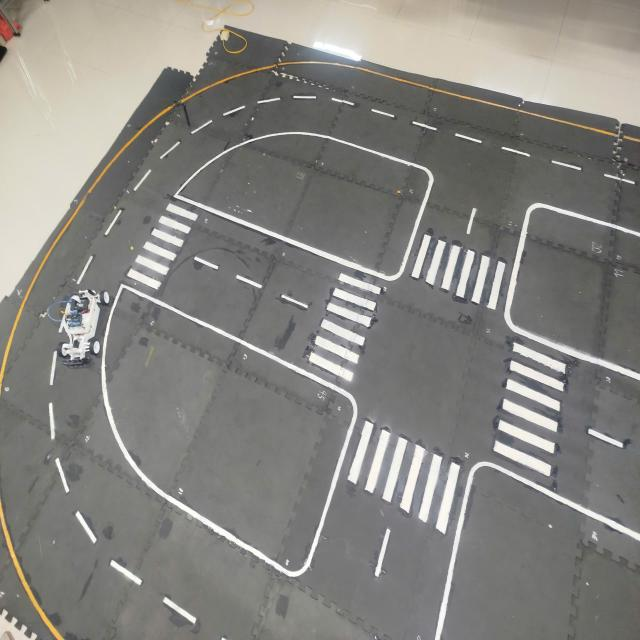SiCo-CAR: (58, 287, 104, 367)
